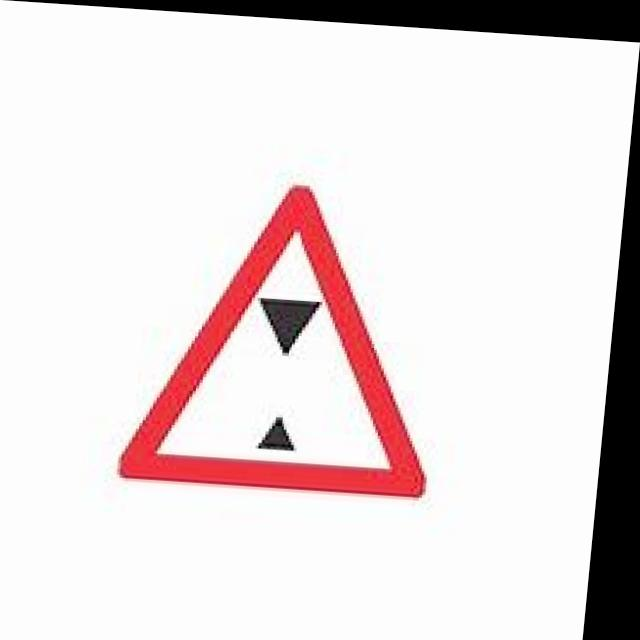HEIGHT_LIMIT: (126, 168, 457, 493)
